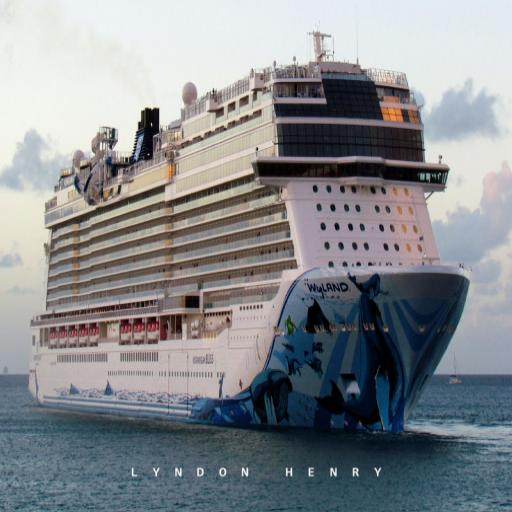cruises: (30, 28, 475, 458)
